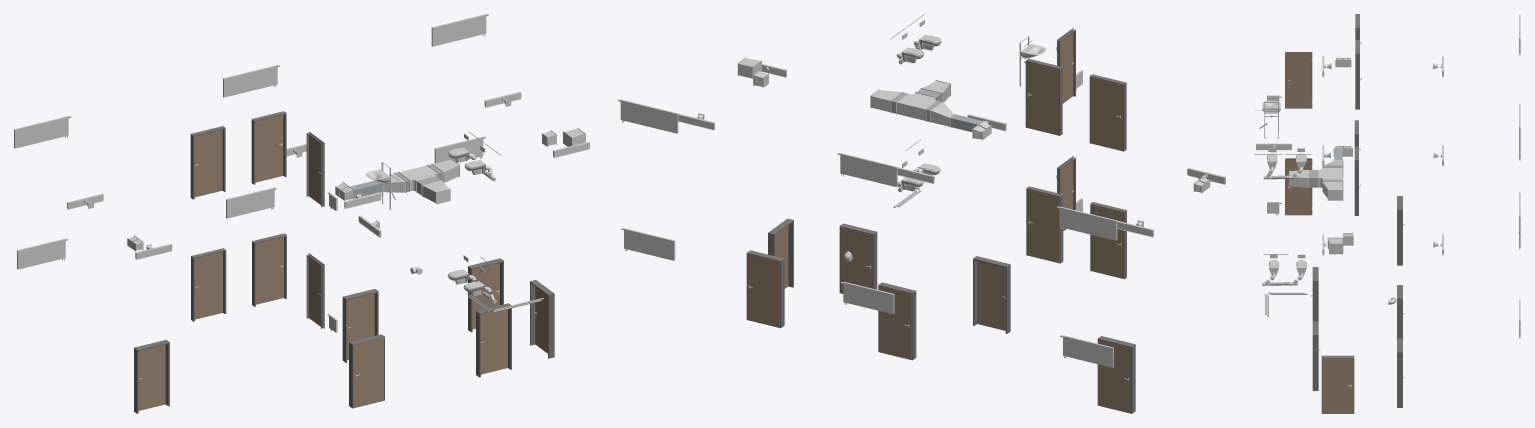
3 renders of one model, left to right at view 1: azimuth 30°, elevation 25°; view 2: azimuth 150°, elevation 25°; view 3: azimuth 270°, elevation 25°, orthographic. The views are drawn at different scales.
Bounding box in the file's own units: 15.89 × 9.33 × 8.86.
